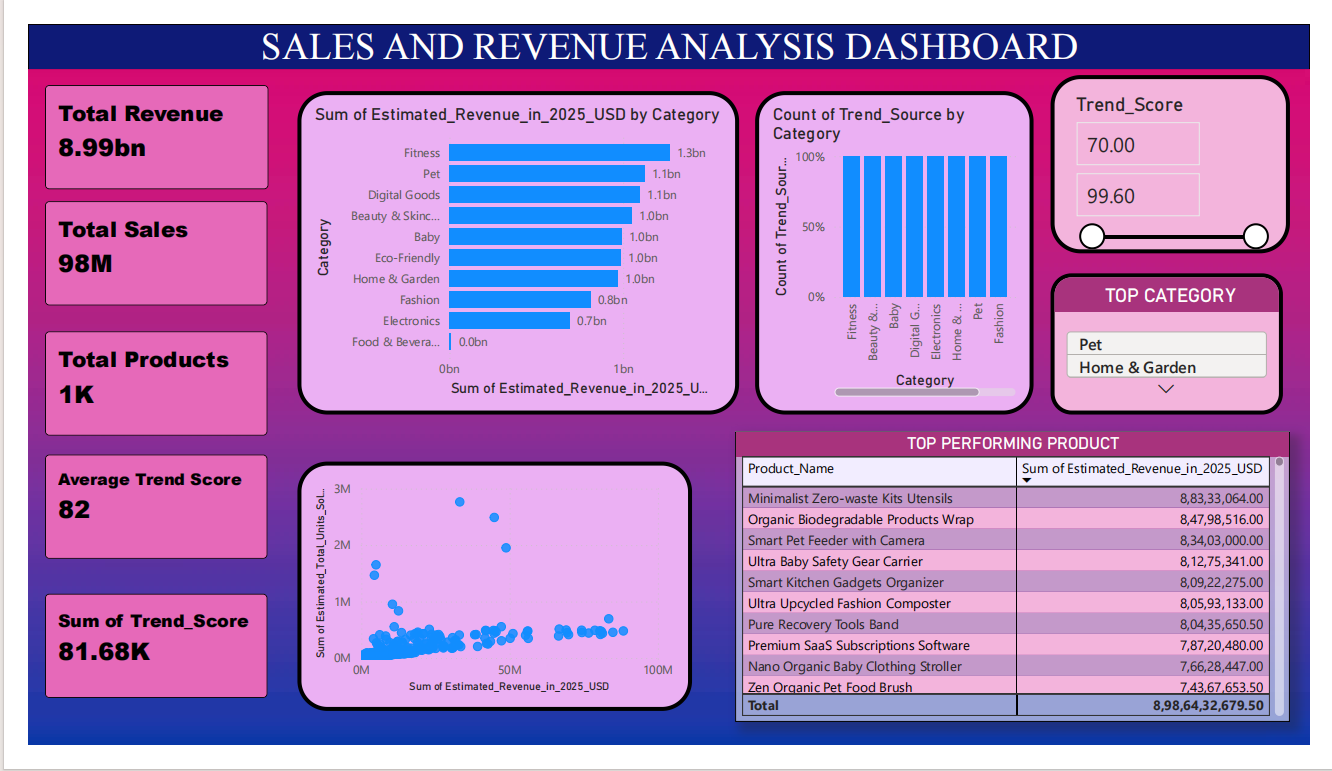

Layout of this report page (visuals, bound fields, positions):
{"tool":"powerbi","page":{"name":"Page 1","canvas":[1280,720],"ordinal":0},"visuals":[{"type":"cardVisual","title":"TOP CATEGORY","fields":{"Data":["shopify_trending_products_2025.Total Products"],"Rows":["shopify_trending_products_2025.Category"]},"box":[1021.4,248.6,231.4,141.4],"z":0},{"type":"cardVisual","fields":{"Data":["shopify_trending_products_2025.Total Revenue"]},"box":[0,44.3,257.1,138.6],"z":4000},{"type":"clusteredBarChart","fields":{"Category":["shopify_trending_products_2025.Category"],"Y":["Sum(shopify_trending_products_2025.Estimated_Revenue_in_2025_USD)"]},"box":[268.6,67.1,441.4,322.9],"z":5000},{"type":"hundredPercentStackedColumnChart","fields":{"Category":["shopify_trending_products_2025.Category"],"Y":["CountNonNull(shopify_trending_products_2025.Trend_Source)"]},"box":[725.7,67.1,278.6,322.9],"z":6000},{"type":"scatterChart","fields":{"X":["Sum(shopify_trending_products_2025.Estimated_Revenue_in_2025_USD)"],"Y":["Sum(shopify_trending_products_2025.Estimated_Total_Units_Sold_in_2025)"],"Category":["shopify_trending_products_2025.Product_Name"]},"box":[268.6,437.1,394.3,248.6],"z":7000},{"type":"textbox","title":"SALES   AND  REVENUE  ANALYSIS  DASHBOARD","box":[0,0,1280,45],"z":8000},{"type":"slicer","fields":{"Values":["shopify_trending_products_2025.Trend_Score"]},"box":[1021.4,51.4,238.6,177.1],"z":10000},{"type":"tableEx","title":"TOP PERFORMING PRODUCT","fields":{"Values":["shopify_trending_products_2025.Product_Name","Sum(shopify_trending_products_2025.Estimated_Revenue_in_2025_USD)"]},"box":[705.7,407.1,554.3,290],"z":11000},{"type":"cardVisual","fields":{"Data":["shopify_trending_products_2025.Total Sales"]},"box":[0,160,256.7,138.3],"z":11001},{"type":"cardVisual","fields":{"Data":["shopify_trending_products_2025.Total Products"]},"box":[0,290,256.7,138.3],"z":11002},{"type":"cardVisual","fields":{"Data":["shopify_trending_products_2025.Average Trend Score"]},"box":[0,413.3,256.7,138.3],"z":11003},{"type":"cardVisual","fields":{"Data":["Sum(shopify_trending_products_2025.Trend_Score)"]},"box":[0,551.7,256.7,138.3],"z":11004}]}

Visuals, with their boxes in screenshot pixels (x1, y1, x2, y2), scaled from the page's 1280x720 canvas onto the 1332x771 screenshot:
"TOP CATEGORY" cardVisual: x1=1063, y1=266, x2=1304, y2=418
cardVisual - shopify_trending_products_2025.Total Revenue: x1=0, y1=47, x2=268, y2=196
clusteredBarChart - shopify_trending_products_2025.Category x Sum(shopify_trending_products_2025.Estimated_Revenue_in_2025_USD): x1=280, y1=72, x2=739, y2=418
hundredPercentStackedColumnChart - shopify_trending_products_2025.Category x CountNonNull(shopify_trending_products_2025.Trend_Source): x1=755, y1=72, x2=1045, y2=418
scatterChart - Sum(shopify_trending_products_2025.Estimated_Revenue_in_2025_USD) x Sum(shopify_trending_products_2025.Estimated_Total_Units_Sold_in_2025): x1=280, y1=468, x2=690, y2=734
"SALES   AND  REVENUE  ANALYSIS  DASHBOARD" textbox: x1=0, y1=0, x2=1331, y2=48
slicer - shopify_trending_products_2025.Trend_Score: x1=1063, y1=55, x2=1311, y2=245
"TOP PERFORMING PRODUCT" tableEx: x1=734, y1=436, x2=1311, y2=746
cardVisual - shopify_trending_products_2025.Total Sales: x1=0, y1=171, x2=267, y2=319
cardVisual - shopify_trending_products_2025.Total Products: x1=0, y1=311, x2=267, y2=459
cardVisual - shopify_trending_products_2025.Average Trend Score: x1=0, y1=443, x2=267, y2=591
cardVisual - Sum(shopify_trending_products_2025.Trend_Score): x1=0, y1=591, x2=267, y2=739
